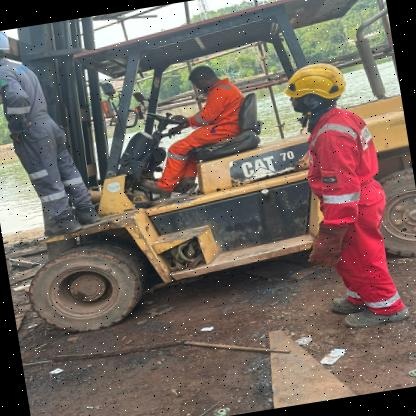bota: (341, 298, 416, 332), (38, 214, 83, 240), (138, 176, 173, 200), (326, 294, 364, 316), (74, 204, 102, 227), (172, 174, 198, 194)
